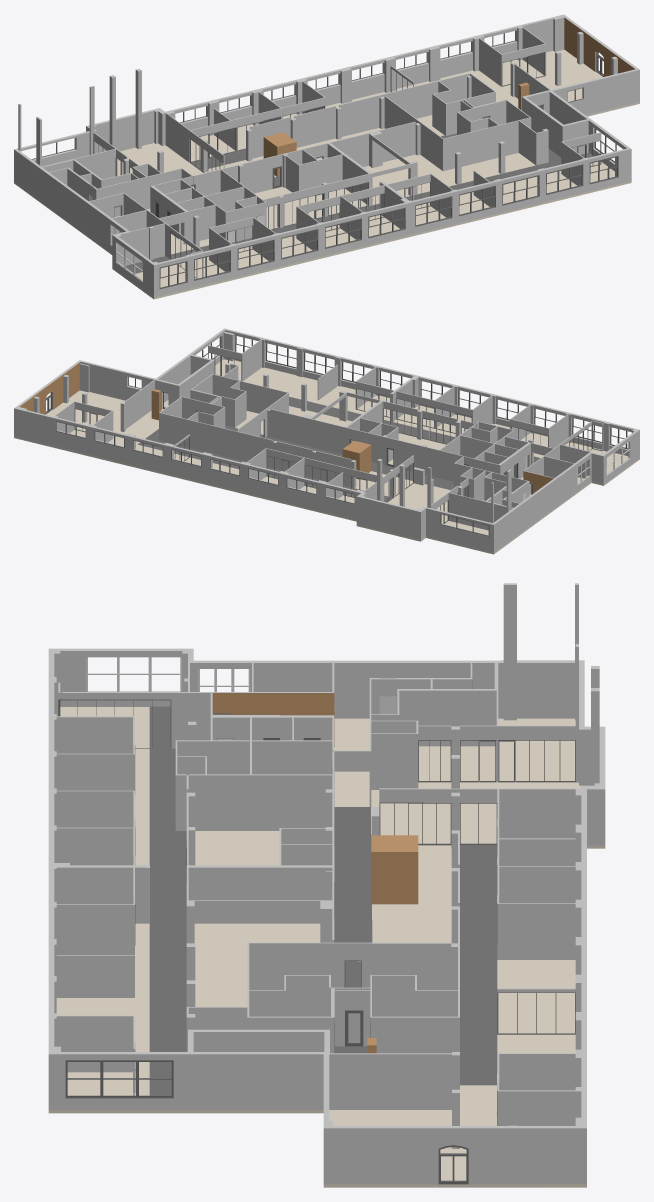
File: 3floor.glb
The picture shows the model from 3 angles, top to bottom: view 1: azimuth 30°, elevation 25°; view 2: azimuth 150°, elevation 25°; view 3: azimuth 270°, elevation 25°; orthographic projection. The views are drawn at different scales.
Visible parts, largest first — view 1: Model-Mat.3, Model-Mat (×3), Model-Mat.1 (×5), Model-Mat.5, Model; view 2: Model-Mat.3, Model-Mat (×4), Model-Mat.1 (×5), Model-Mat.5 (×2), Model; view 3: Model-Mat.3, Model-Mat (×4), Model-Mat.5 (×2), Model-Mat.1, Model.
Boxes of the visible parts, x1,y1,x2,y2 form: Model-Mat.3: (14, 14, 639, 297); Model-Mat (×3): (14, 49, 639, 299); Model-Mat.1 (×5): (56, 30, 618, 289); Model-Mat.5: (263, 17, 634, 176); Model: (88, 194, 315, 282); Model-Mat.3: (14, 328, 639, 552); Model-Mat (×4): (14, 359, 639, 554); Model-Mat.1 (×5): (46, 335, 628, 536); Model-Mat.5 (×2): (19, 362, 553, 493); Model: (260, 420, 630, 500); Model-Mat.3: (48, 583, 605, 1184); Model-Mat (×4): (48, 706, 605, 1187); Model-Mat.5 (×2): (212, 693, 418, 1053); Model-Mat.1: (58, 700, 575, 1033); Model: (86, 657, 396, 961).
Size of what is drawn, in the model's own units: 60.75 by 8.2 by 29.79.
